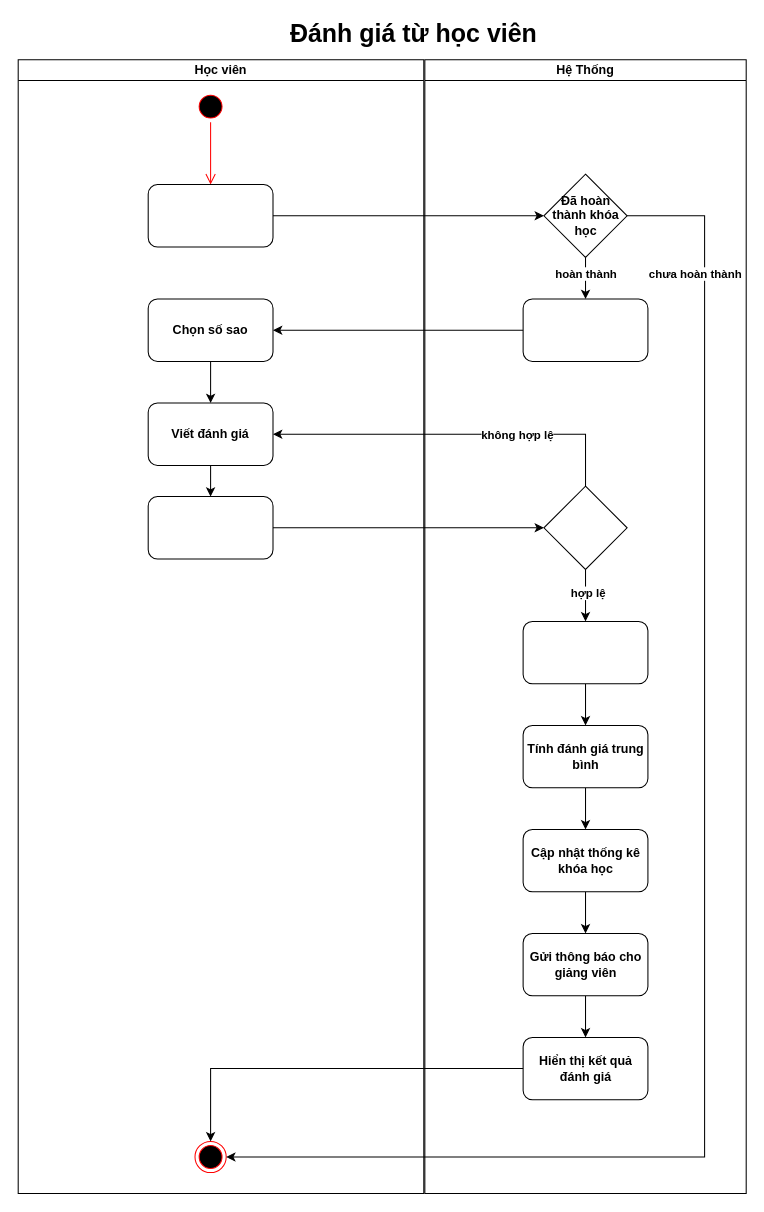
The diagram is 764 pixels wide and 1212 high, and some of its shapes have lost their labels. The centre of each missing label's shape, as x and y in pixels:
"Gửi đánh giá" belongs at point 210,527.
"Hiển thị form đánh giá" belongs at point 585,329.
"Kiểm tra nội dung đánh giá" belongs at point 585,527.
"Lưu đánh giá" belongs at point 585,652.
"Truy cập mục đánh giá" belongs at point 210,215.
